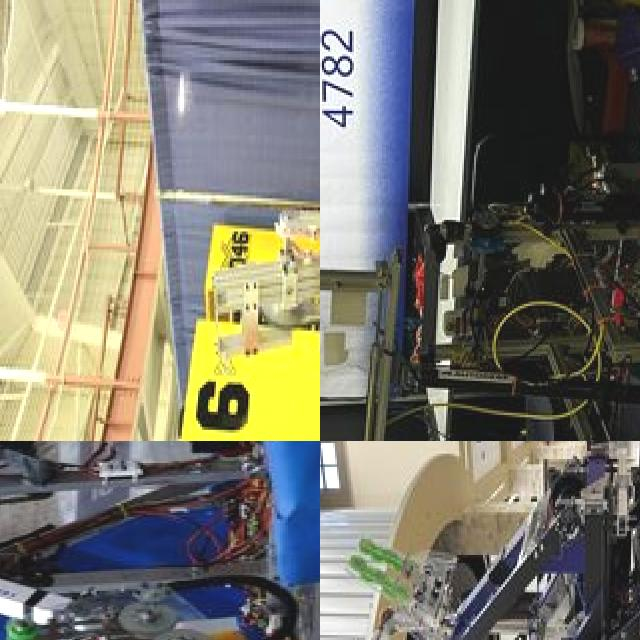FRC-Robots: (328, 58, 640, 441), (0, 441, 320, 640), (320, 441, 640, 640), (178, 0, 320, 441)
